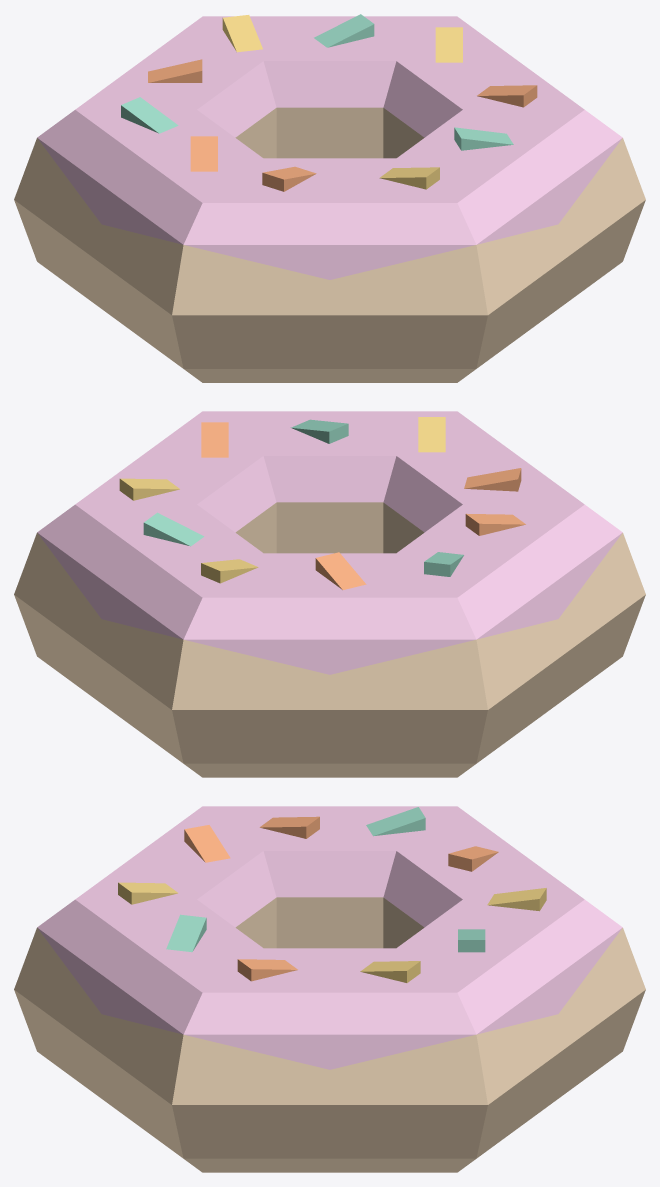
Rendered from donutSprinkles.gltf.
3 renders of one model, top to bottom at view 1: azimuth 30°, elevation 25°; view 2: azimuth 150°, elevation 25°; view 3: azimuth 270°, elevation 25°, orthographic.
Visible parts, largest first — view 1: Mesh_donutSprinkles_1, Mesh_donutSprinkles, Mesh_donutSprinkles_2, Mesh_donutSprinkles_4, Mesh_donutSprinkles_3; view 2: Mesh_donutSprinkles_1, Mesh_donutSprinkles, Mesh_donutSprinkles_2, Mesh_donutSprinkles_3, Mesh_donutSprinkles_4; view 3: Mesh_donutSprinkles_1, Mesh_donutSprinkles, Mesh_donutSprinkles_2, Mesh_donutSprinkles_3, Mesh_donutSprinkles_4.
Boxes of the visible parts, x1,y1,x2,y2 form: Mesh_donutSprinkles_1: (37,16,622,279); Mesh_donutSprinkles: (14,107,645,382); Mesh_donutSprinkles_2: (148,59,537,191); Mesh_donutSprinkles_4: (121,14,513,150); Mesh_donutSprinkles_3: (222,15,462,189); Mesh_donutSprinkles_1: (37,411,622,674); Mesh_donutSprinkles: (14,502,645,777); Mesh_donutSprinkles_2: (201,422,525,589); Mesh_donutSprinkles_3: (119,417,445,583); Mesh_donutSprinkles_4: (143,419,463,576); Mesh_donutSprinkles_1: (37,806,622,1069); Mesh_donutSprinkles: (14,897,645,1172); Mesh_donutSprinkles_2: (184,816,498,981); Mesh_donutSprinkles_3: (118,882,546,982); Mesh_donutSprinkles_4: (166,807,485,952).
Bounding box in the file's own units: 0.2451 × 0.095 × 0.283.
